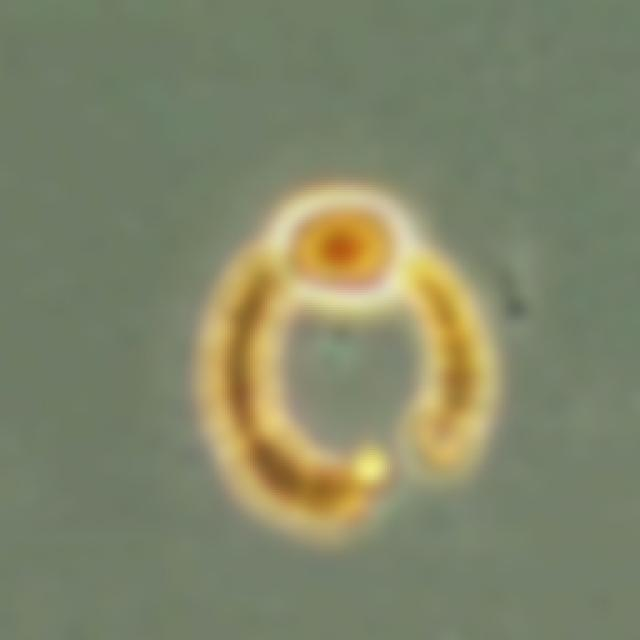Anabaena: (198, 174, 498, 525)
